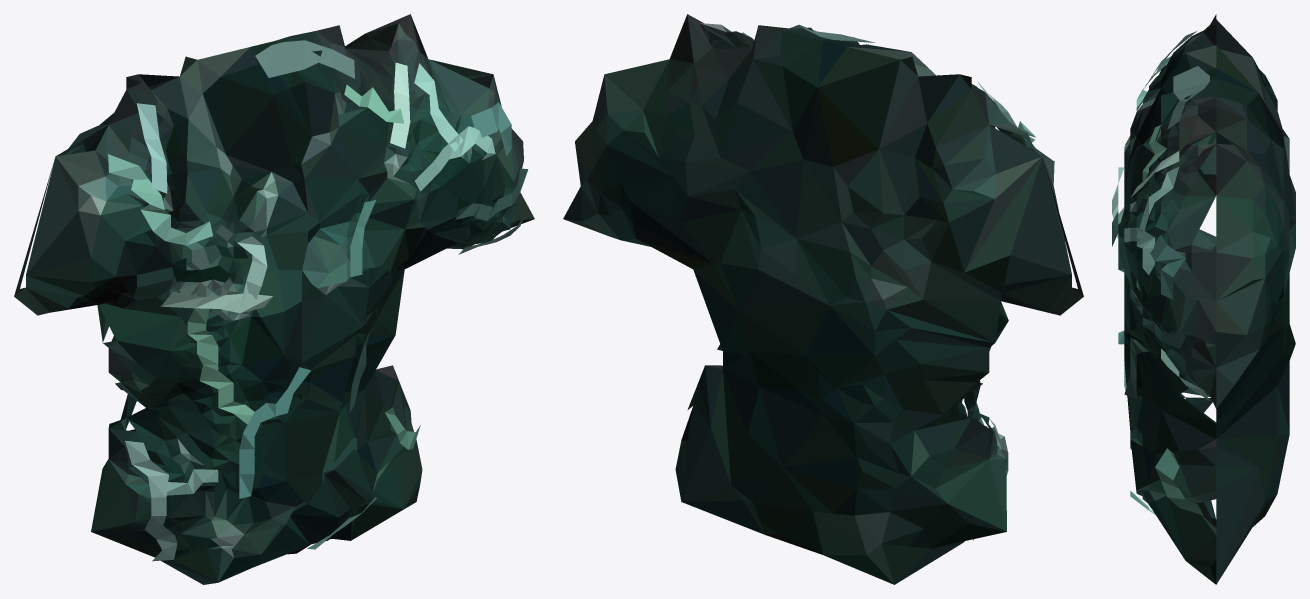
File: B01_6_jade_crystal_platebody.obj
3 renders of one model, left to right at view 1: azimuth 30°, elevation 25°; view 2: azimuth 150°, elevation 25°; view 3: azimuth 270°, elevation 25°, orthographic. The views are drawn at different scales.
Visible parts, largest first — view 1: B01_6_jade_crystal_platebody; view 2: B01_6_jade_crystal_platebody; view 3: B01_6_jade_crystal_platebody.
Part boxes in pixels (x1,y1,x2,y2): B01_6_jade_crystal_platebody: (14,14,534,584); B01_6_jade_crystal_platebody: (563,14,1083,584); B01_6_jade_crystal_platebody: (1112,14,1295,584).
Bounding box in the file's own units: 88 × 86 × 30.
